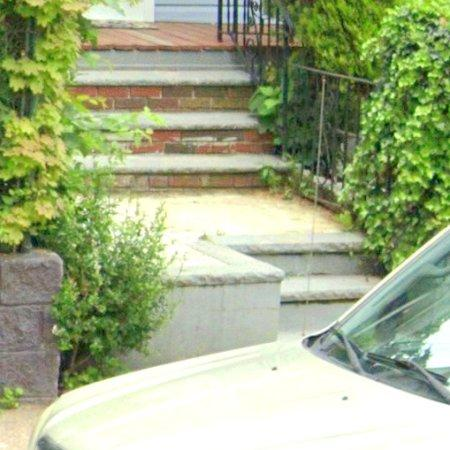stairs: (115, 190, 384, 337), (71, 23, 279, 188)
